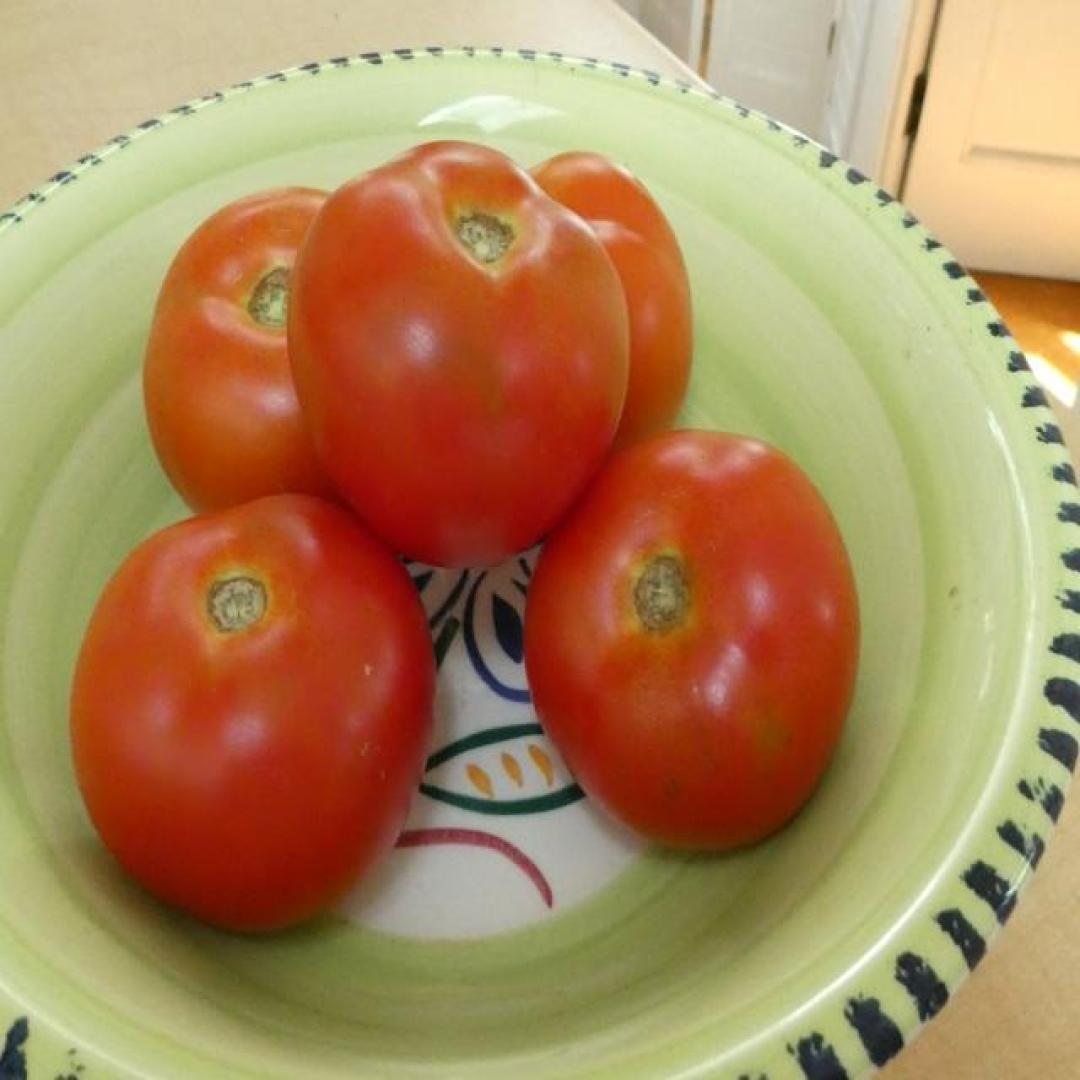matang: (71, 493, 439, 933), (285, 137, 631, 567), (522, 425, 862, 856)
